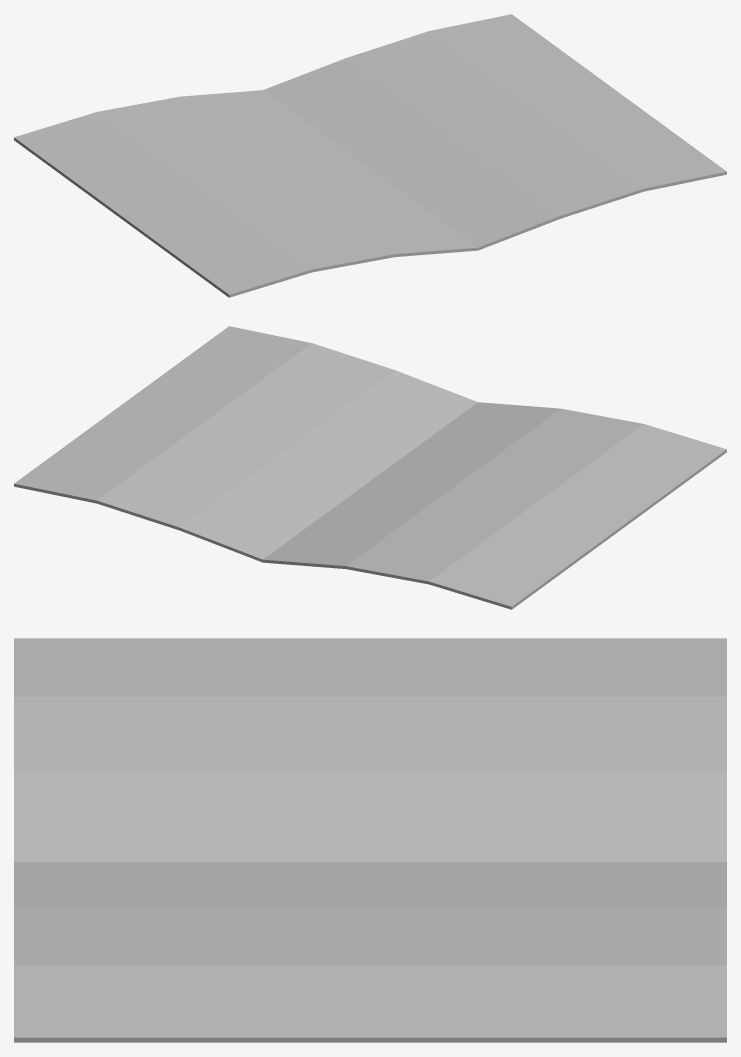
File: Papir_2.fbx
3 renders of one model, top to bottom at view 1: azimuth 30°, elevation 25°; view 2: azimuth 150°, elevation 25°; view 3: azimuth 270°, elevation 25°, orthographic. The views are drawn at different scales.
Parts seen in each view (by area): view 1: Papir.001; view 2: Papir.001; view 3: Papir.001.
Boxes of the visible parts, x1,y1,x2,y2 form: Papir.001: [14, 14, 726, 297]; Papir.001: [14, 326, 726, 609]; Papir.001: [14, 638, 726, 1042].
Size of the model in its own units: 104 by 4.35 by 78.12.
